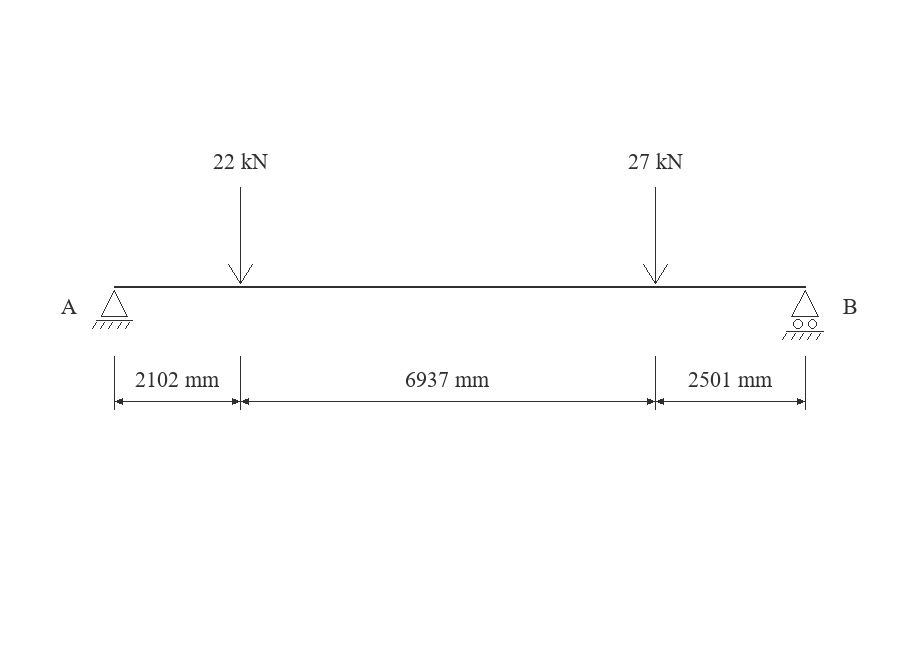pin_support: (92, 290, 133, 329)
point_load: (228, 187, 253, 284), (643, 187, 668, 284)
roller_support: (782, 290, 824, 340)
